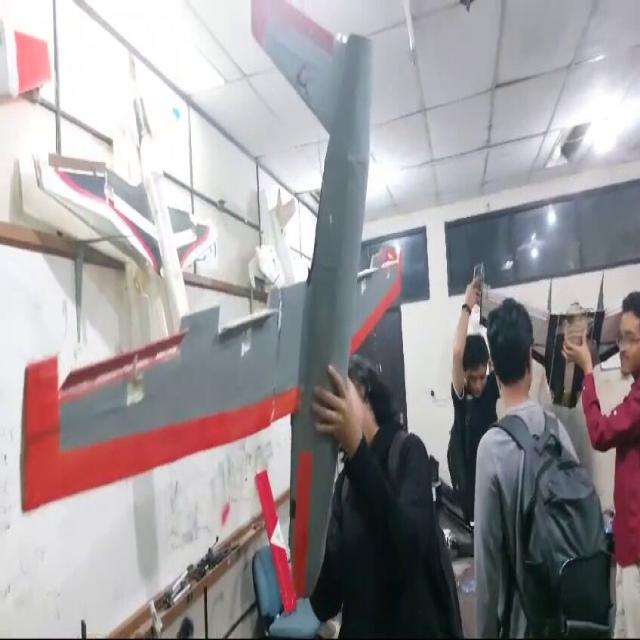plane: (5, 0, 409, 637)
